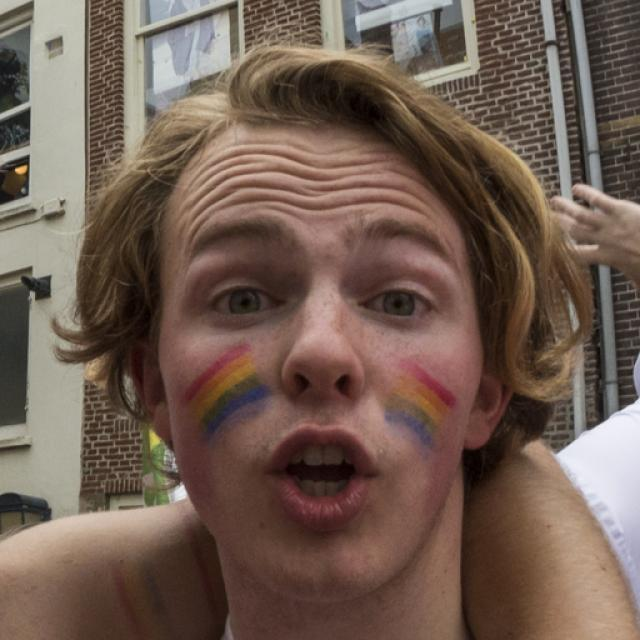surprise: (160, 123, 481, 596)
